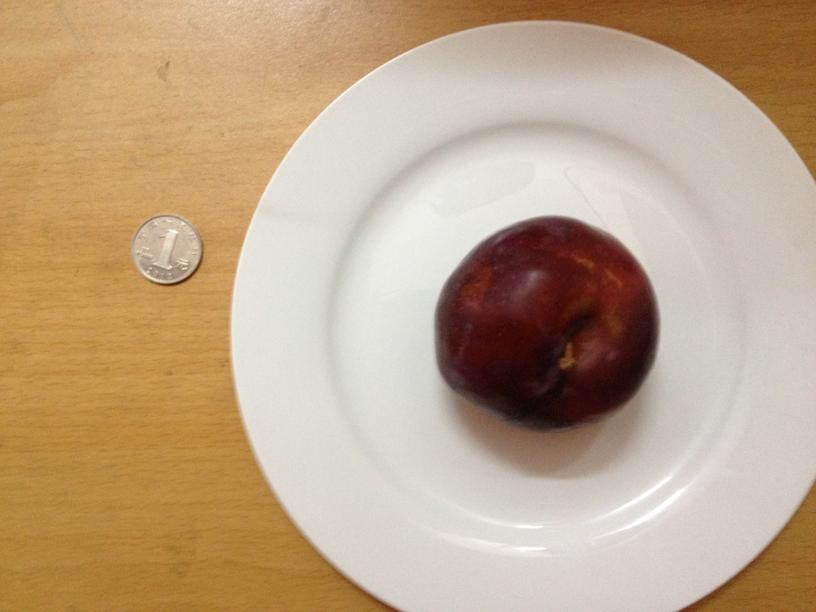coin: (131, 214, 201, 284)
plum: (428, 213, 660, 432)
